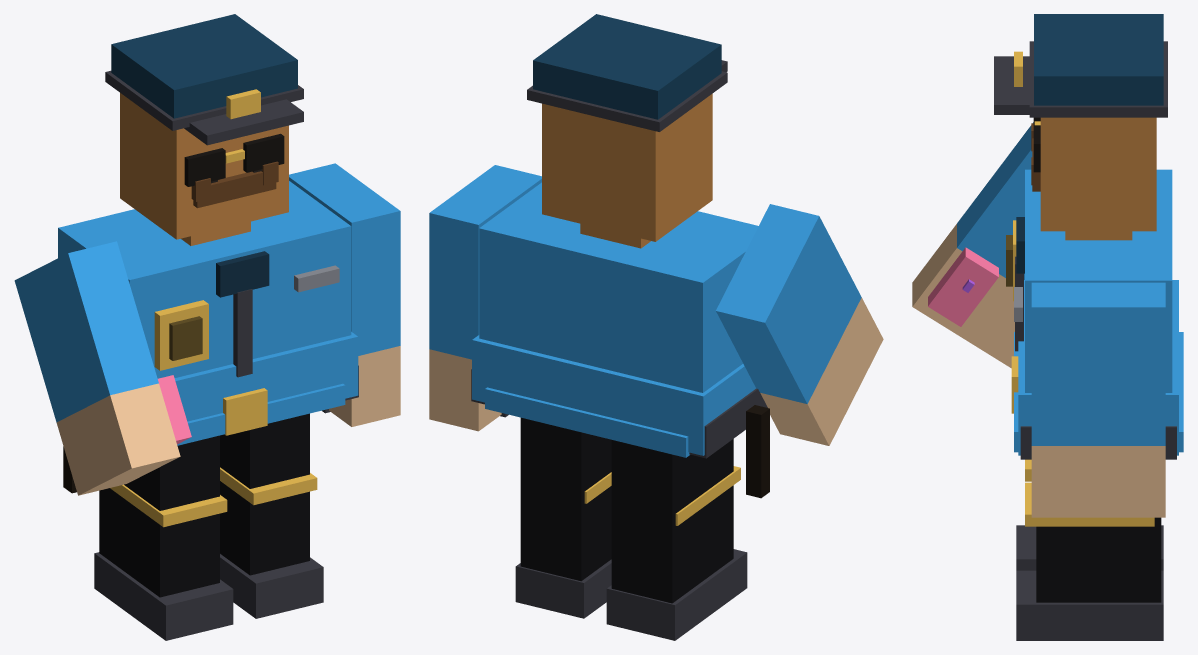
File: archetypes__cop.glb
3 renders of one model, left to right at view 1: azimuth 30°, elevation 25°; view 2: azimuth 150°, elevation 25°; view 3: azimuth 270°, elevation 25°, orthographic. The views are drawn at different scales.
Visible parts, largest first — view 1: archetypes__cop, rig_armL, rig_legL, rig_legR, rig_armR; view 2: archetypes__cop, rig_armL, rig_legL, rig_legR, rig_armR; view 3: archetypes__cop, rig_armR, rig_legR, rig_armL, rig_legL.
Part boxes in pixels (x1,y1,x2,y2): archetypes__cop: (58, 14, 358, 493); rig_armL: (14, 241, 191, 495); rig_legL: (94, 435, 233, 640); rig_legR: (220, 413, 323, 618); rig_armR: (289, 163, 400, 426); archetypes__cop: (471, 14, 769, 498); rig_armL: (716, 204, 883, 445); rig_legL: (606, 439, 747, 640); rig_legR: (515, 417, 611, 618); rig_armR: (429, 165, 541, 431); archetypes__cop: (994, 14, 1183, 459); rig_armR: (1031, 282, 1165, 517); rig_legR: (1016, 482, 1163, 640); rig_armL: (912, 122, 1033, 368); rig_legL: (1016, 459, 1163, 570).
Bounding box in the file's own units: 1.74 × 2.75 × 1.22.
